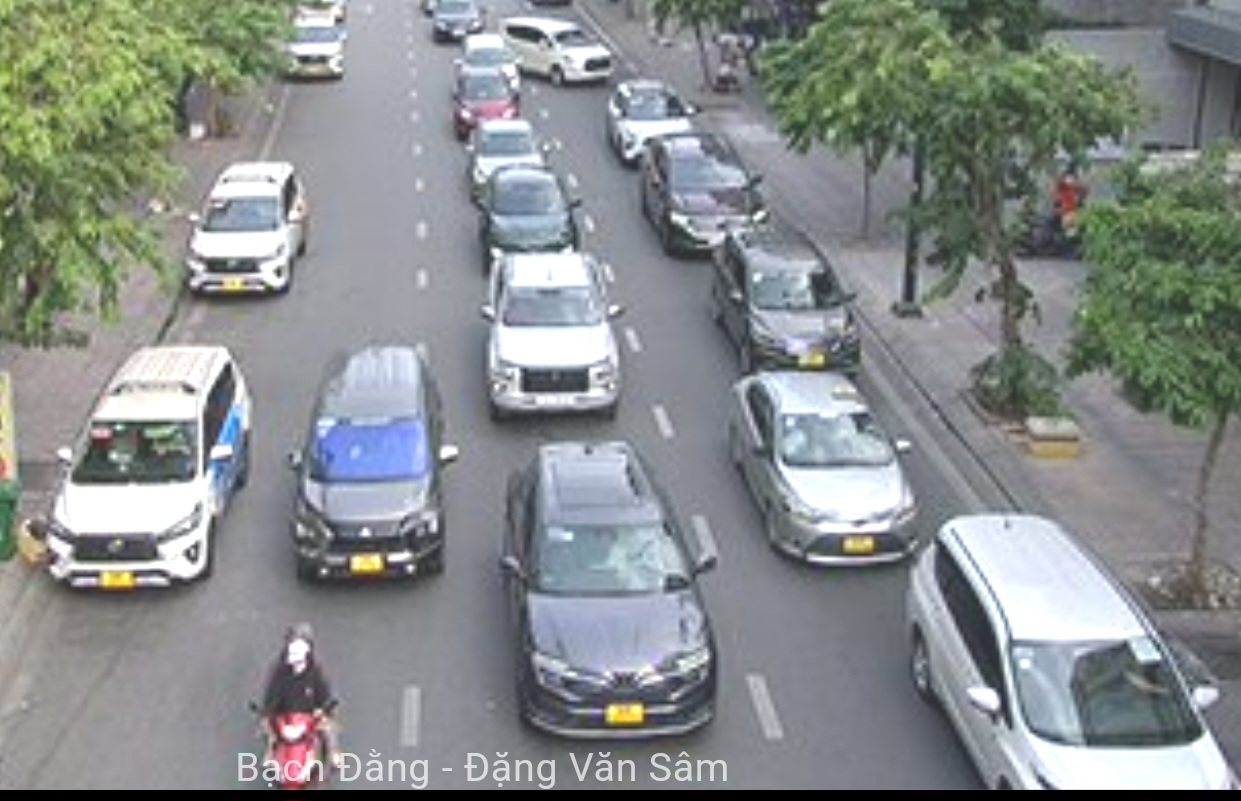car: (907, 513, 1224, 791), (496, 448, 727, 733), (45, 346, 252, 592), (292, 341, 450, 584), (726, 374, 920, 564), (483, 255, 628, 422), (715, 224, 868, 371), (188, 158, 308, 296), (644, 136, 771, 250), (476, 166, 581, 258), (503, 14, 616, 78), (612, 80, 693, 159), (283, 12, 352, 91), (467, 115, 546, 165), (456, 73, 518, 119), (433, 1, 486, 36)
